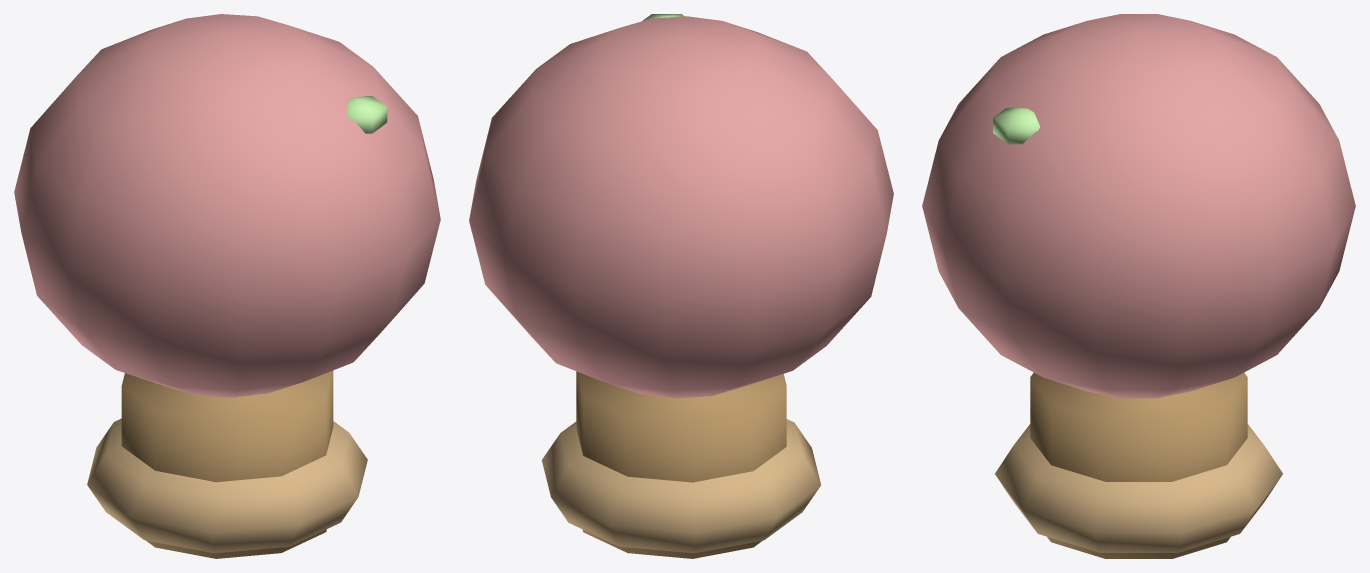
The model's file is toxic_mushroom_grown.fbx.
The picture shows the model from 3 angles, left to right: view 1: azimuth 30°, elevation 25°; view 2: azimuth 150°, elevation 25°; view 3: azimuth 270°, elevation 25°; orthographic projection.
Visible parts, largest first — view 1: PLQ_toxic_mushroom_grown; view 2: PLQ_toxic_mushroom_grown; view 3: PLQ_toxic_mushroom_grown.
Boxes of the visible parts, x1,y1,x2,y2 form: PLQ_toxic_mushroom_grown: [14, 14, 440, 558]; PLQ_toxic_mushroom_grown: [469, 14, 893, 558]; PLQ_toxic_mushroom_grown: [922, 14, 1355, 558].
Size of the model in its own units: 76.37 by 99 by 78.34.
